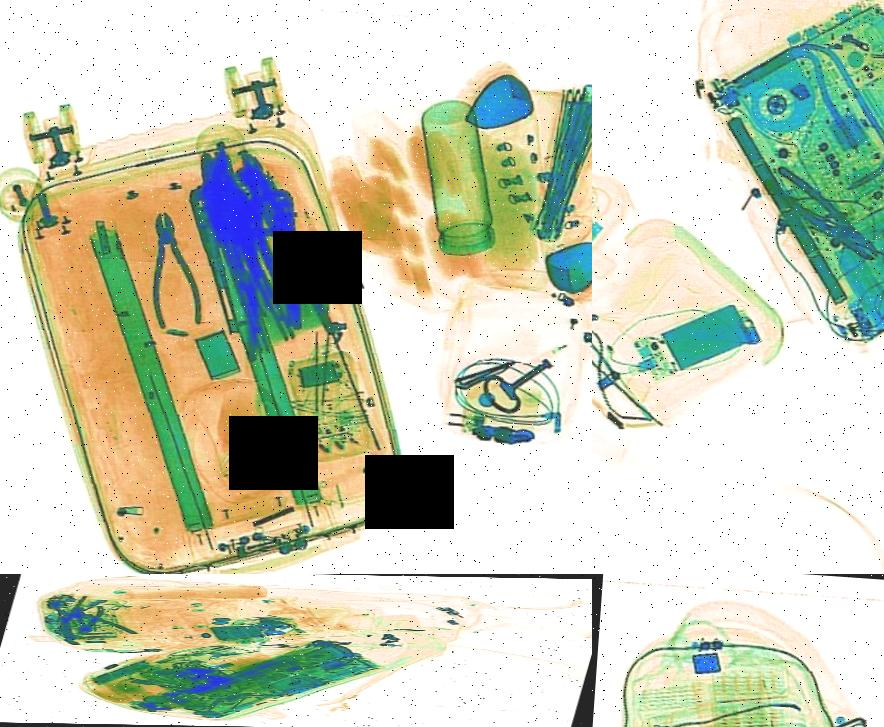Pliers: (750, 159, 884, 270), (131, 206, 214, 330), (23, 602, 150, 640), (66, 604, 109, 633)
